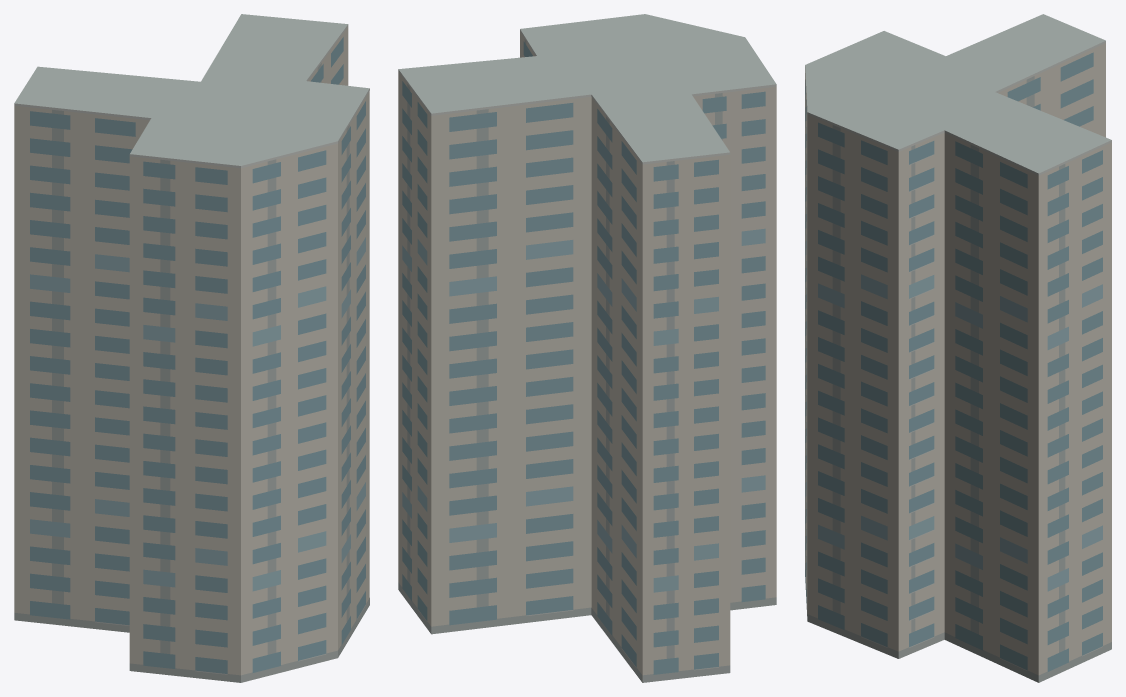
The model's file is residential-3f16ef06-3d2d-4c3d-afc3-87206c0f6c84.glb.
3 renders of one model, left to right at view 1: azimuth 30°, elevation 25°; view 2: azimuth 150°, elevation 25°; view 3: azimuth 270°, elevation 25°, orthographic. The views are drawn at different scales.
Parts seen in each view (by area): view 1: residential-3f16ef06-3d2d-4c3d-afc3-87206c0f6c84.tmp; view 2: residential-3f16ef06-3d2d-4c3d-afc3-87206c0f6c84.tmp; view 3: residential-3f16ef06-3d2d-4c3d-afc3-87206c0f6c84.tmp.
Part boxes in pixels (x1,y1,x2,y2): residential-3f16ef06-3d2d-4c3d-afc3-87206c0f6c84.tmp: [14, 14, 369, 682]; residential-3f16ef06-3d2d-4c3d-afc3-87206c0f6c84.tmp: [398, 14, 776, 682]; residential-3f16ef06-3d2d-4c3d-afc3-87206c0f6c84.tmp: [805, 14, 1111, 682].
Size of the model in its own units: 36.95 by 55 by 30.03.
